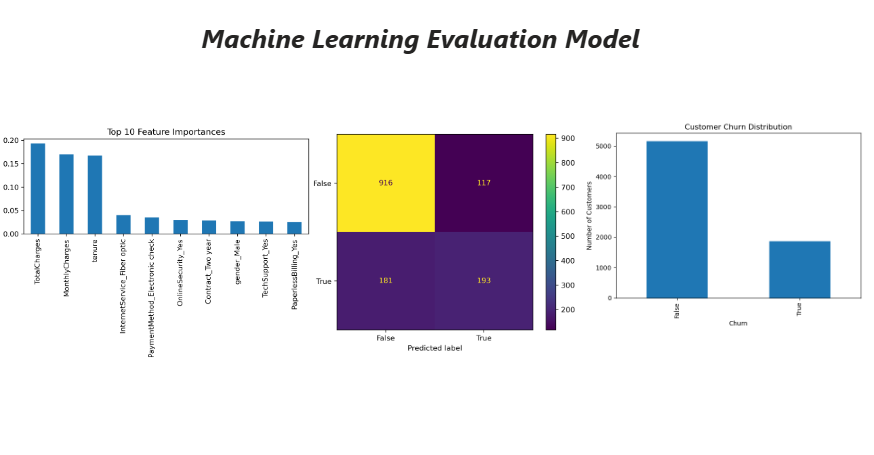

The dashboard page shown, as its layout file describes it:
{"tool":"powerbi","page":{"name":"ML prediction dashboard","canvas":[1280,720],"ordinal":1},"visuals":[{"type":"image","box":[831.4,88.6,411.4,467.1],"z":0},{"type":"image","box":[428.6,11.4,402.9,671.4],"z":1},{"type":"image","box":[0,100,451.4,494.3],"z":2},{"type":"textbox","box":[0,22.9,1207.1,77.1],"z":3}]}

Visuals, with their boxes on the page's 1280x720 design canvas (x1, y1, x2, y2). These are canvas units, not pixel positions in the 874x455 screenshot, which may show the page scaled, cropped or inside an application window:
image: left=831, top=89, right=1243, bottom=556
image: left=429, top=11, right=832, bottom=683
image: left=0, top=100, right=451, bottom=594
textbox: left=0, top=23, right=1207, bottom=100
